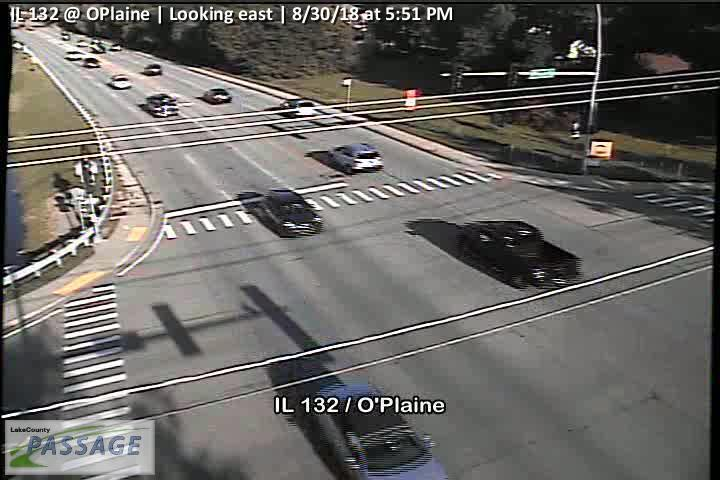SUV: (265, 189, 322, 238), (328, 143, 383, 175), (145, 94, 179, 118), (280, 98, 317, 120)
Sedan: (313, 380, 449, 480), (203, 89, 232, 104), (112, 74, 131, 89), (144, 63, 162, 75), (64, 51, 85, 60), (83, 58, 101, 68)
Truck: (457, 220, 581, 290)
